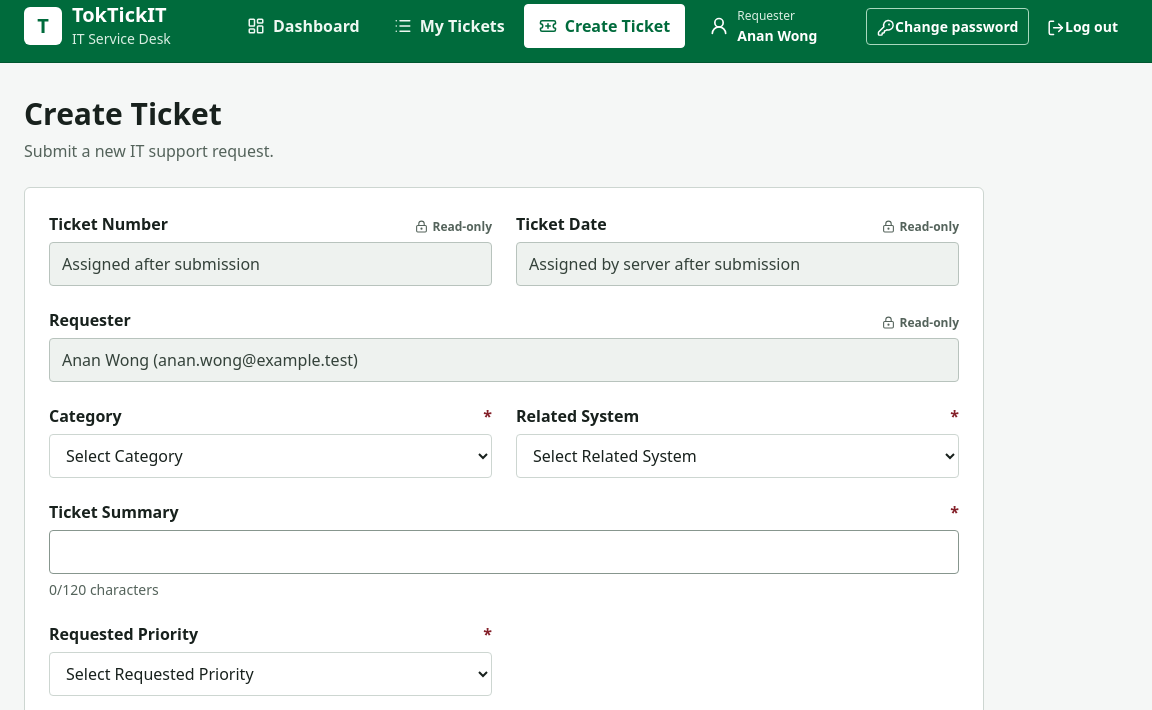
Scenario: Create Ticket screen › blocks Cancel and My Tickets navigation while creation is pending
Select "Hardware" in the dropdown labelled "Category *" at [270, 456], box x1=49 y1=434 x2=492 y2=478
Select "Corporate Laptop" in the dropdown labelled "Related System *" at [738, 456], box x1=516 y1=434 x2=959 y2=478
Type "  Laptop battery drains quickly  " into the field labelled "Ticket Summary *".
click(504, 552); type("  Laptop battery drains quickly  ")  # box x1=49 y1=530 x2=959 y2=574
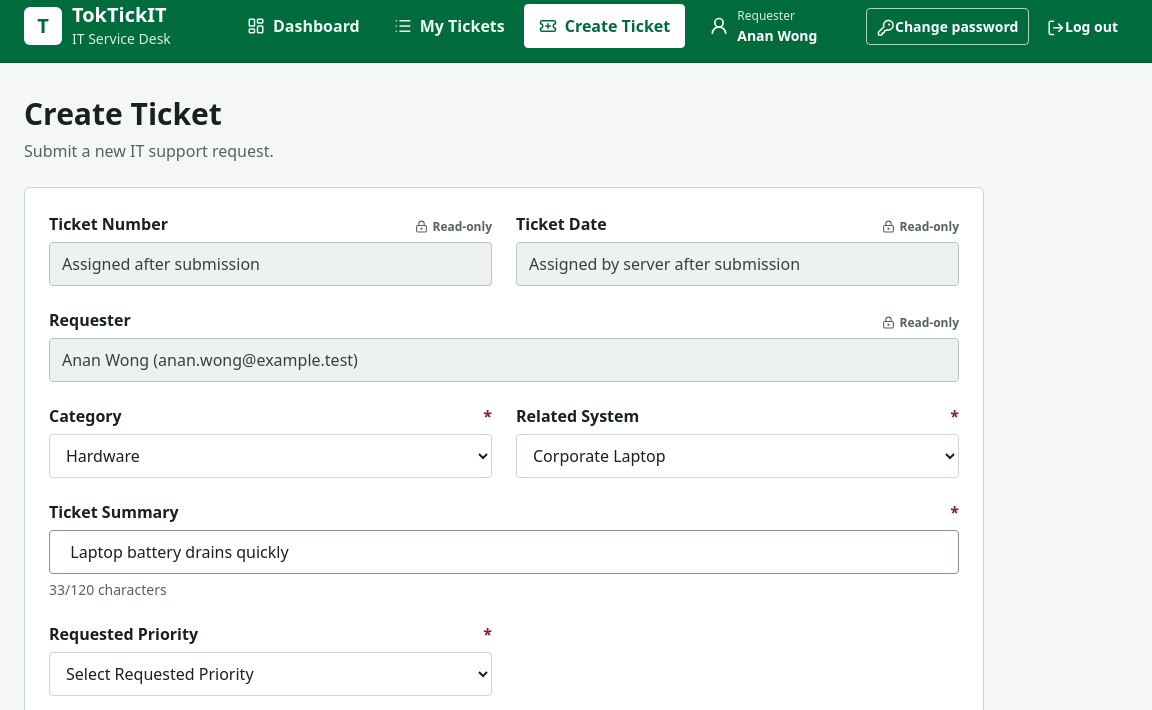
Select "Medium" in the dropdown labelled "Requested Priority *" at [270, 674], box x1=49 y1=652 x2=492 y2=696
(page scrolled)
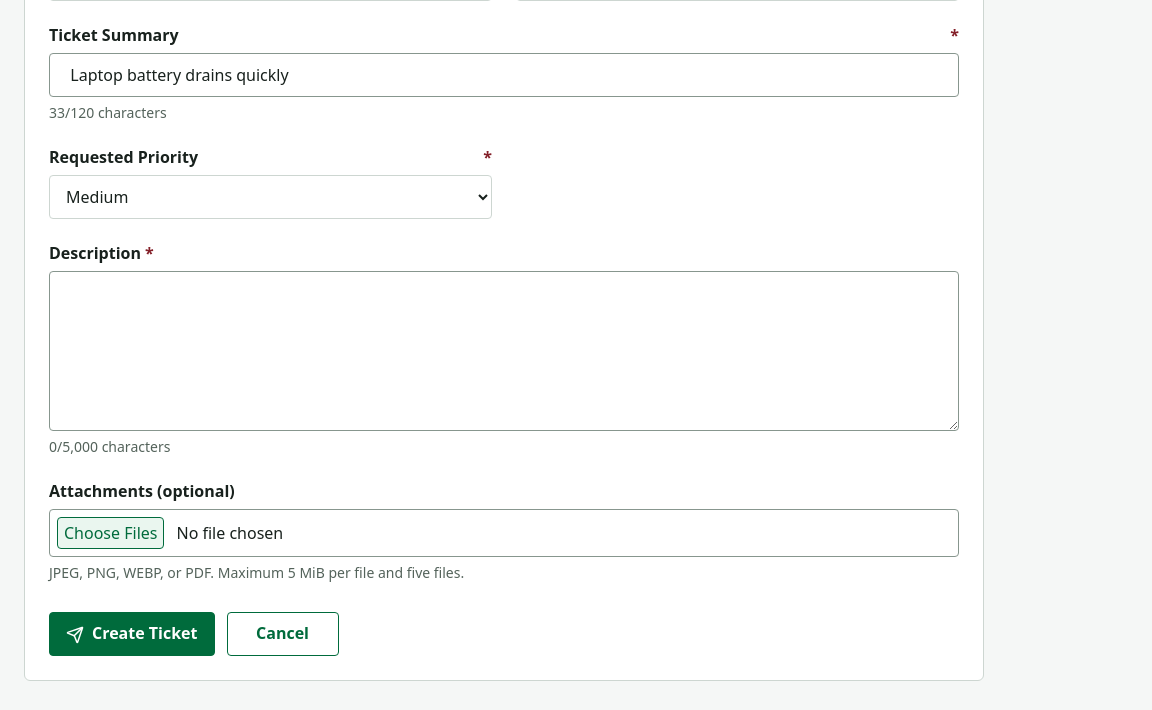
Type "  Battery capacity drops from full to empty in one hour.  " into the text box labelled "Description*".
click(504, 350); type("  Battery capacity drops from full to empty in one hour.  ")  # box x1=49 y1=270 x2=959 y2=430
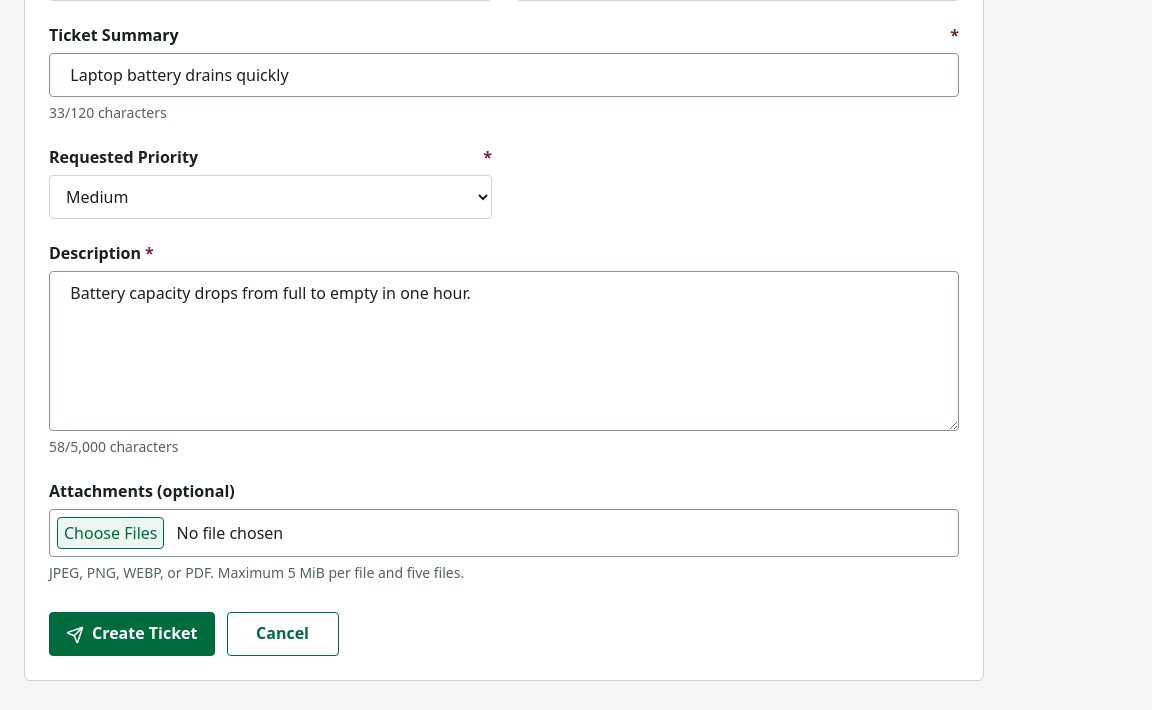
Click the button "Create Ticket".
click(132, 634)  # box x1=49 y1=612 x2=214 y2=656
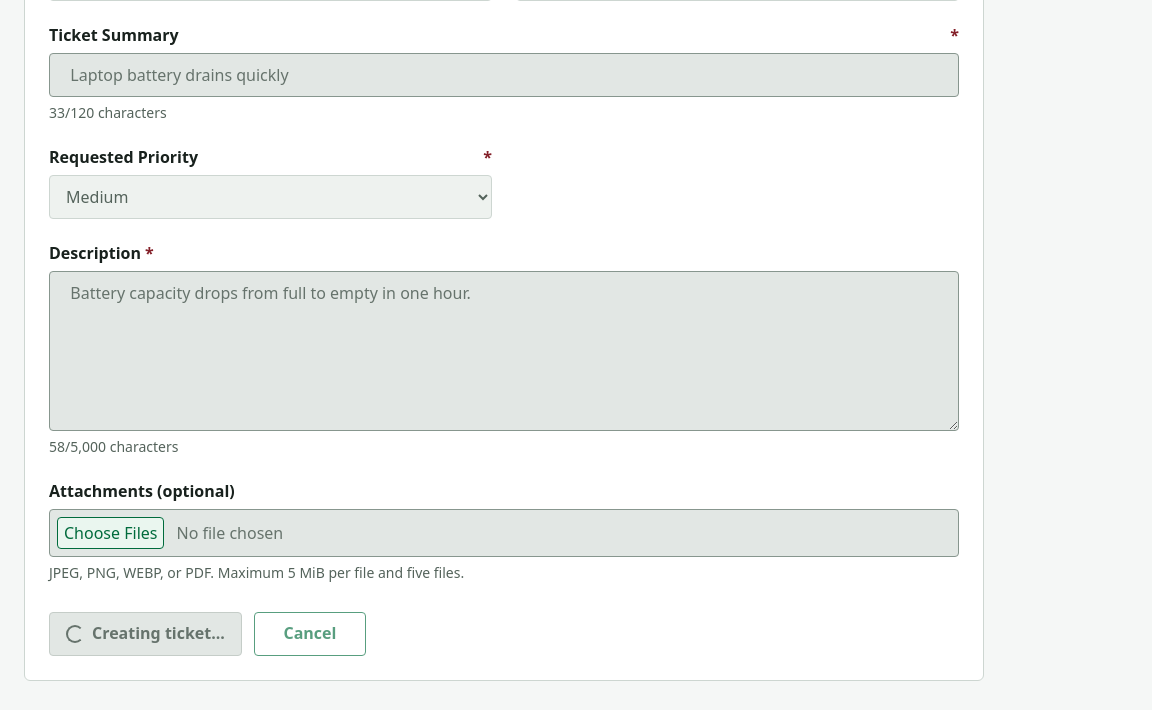
Expected: the button "Creating ticket..." is shown, x1=49 y1=612 x2=242 y2=656
Click the link "Cancel".
click(310, 634)  # box x1=254 y1=612 x2=366 y2=656
(page scrolled)
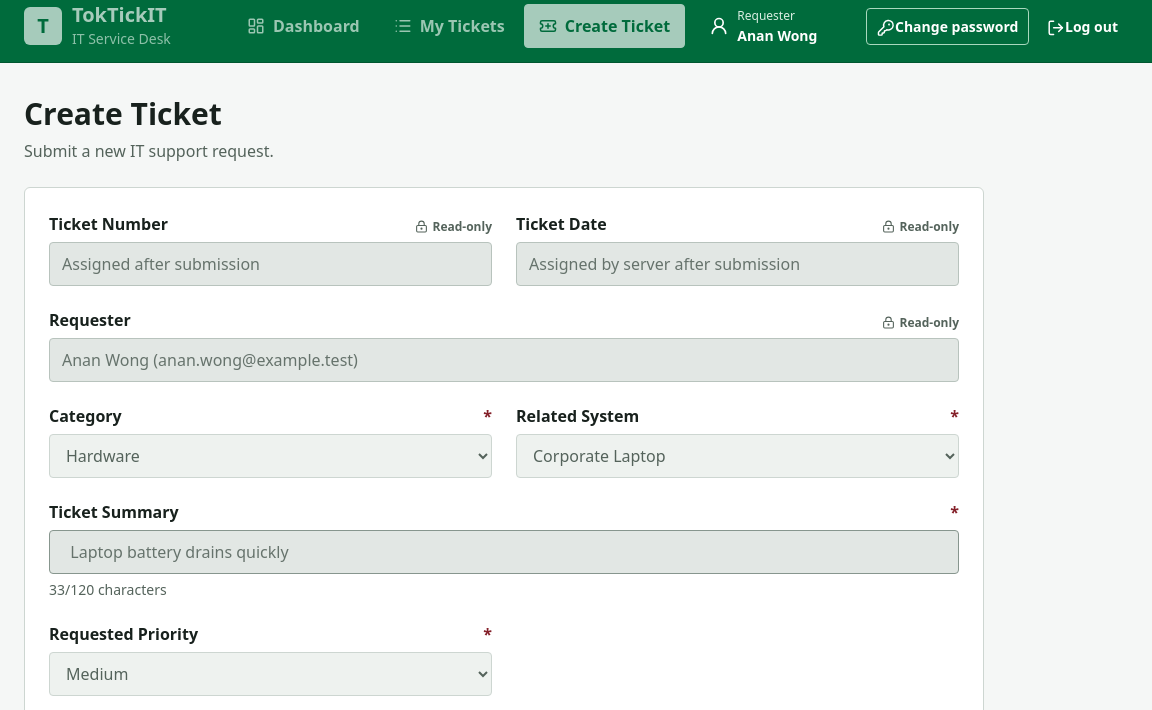
Click the link "My Tickets".
click(449, 26)  # box x1=394 y1=15 x2=505 y2=37
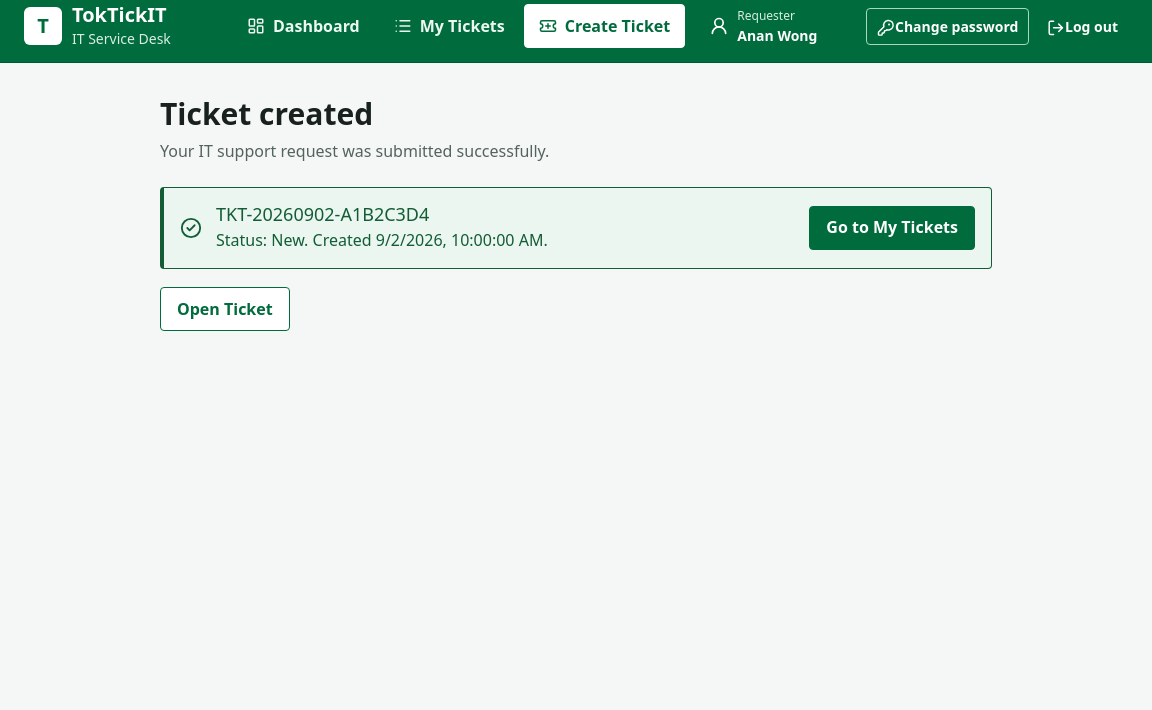
Expected: the heading "Ticket created" is shown, x1=160 y1=93 x2=373 y2=134
